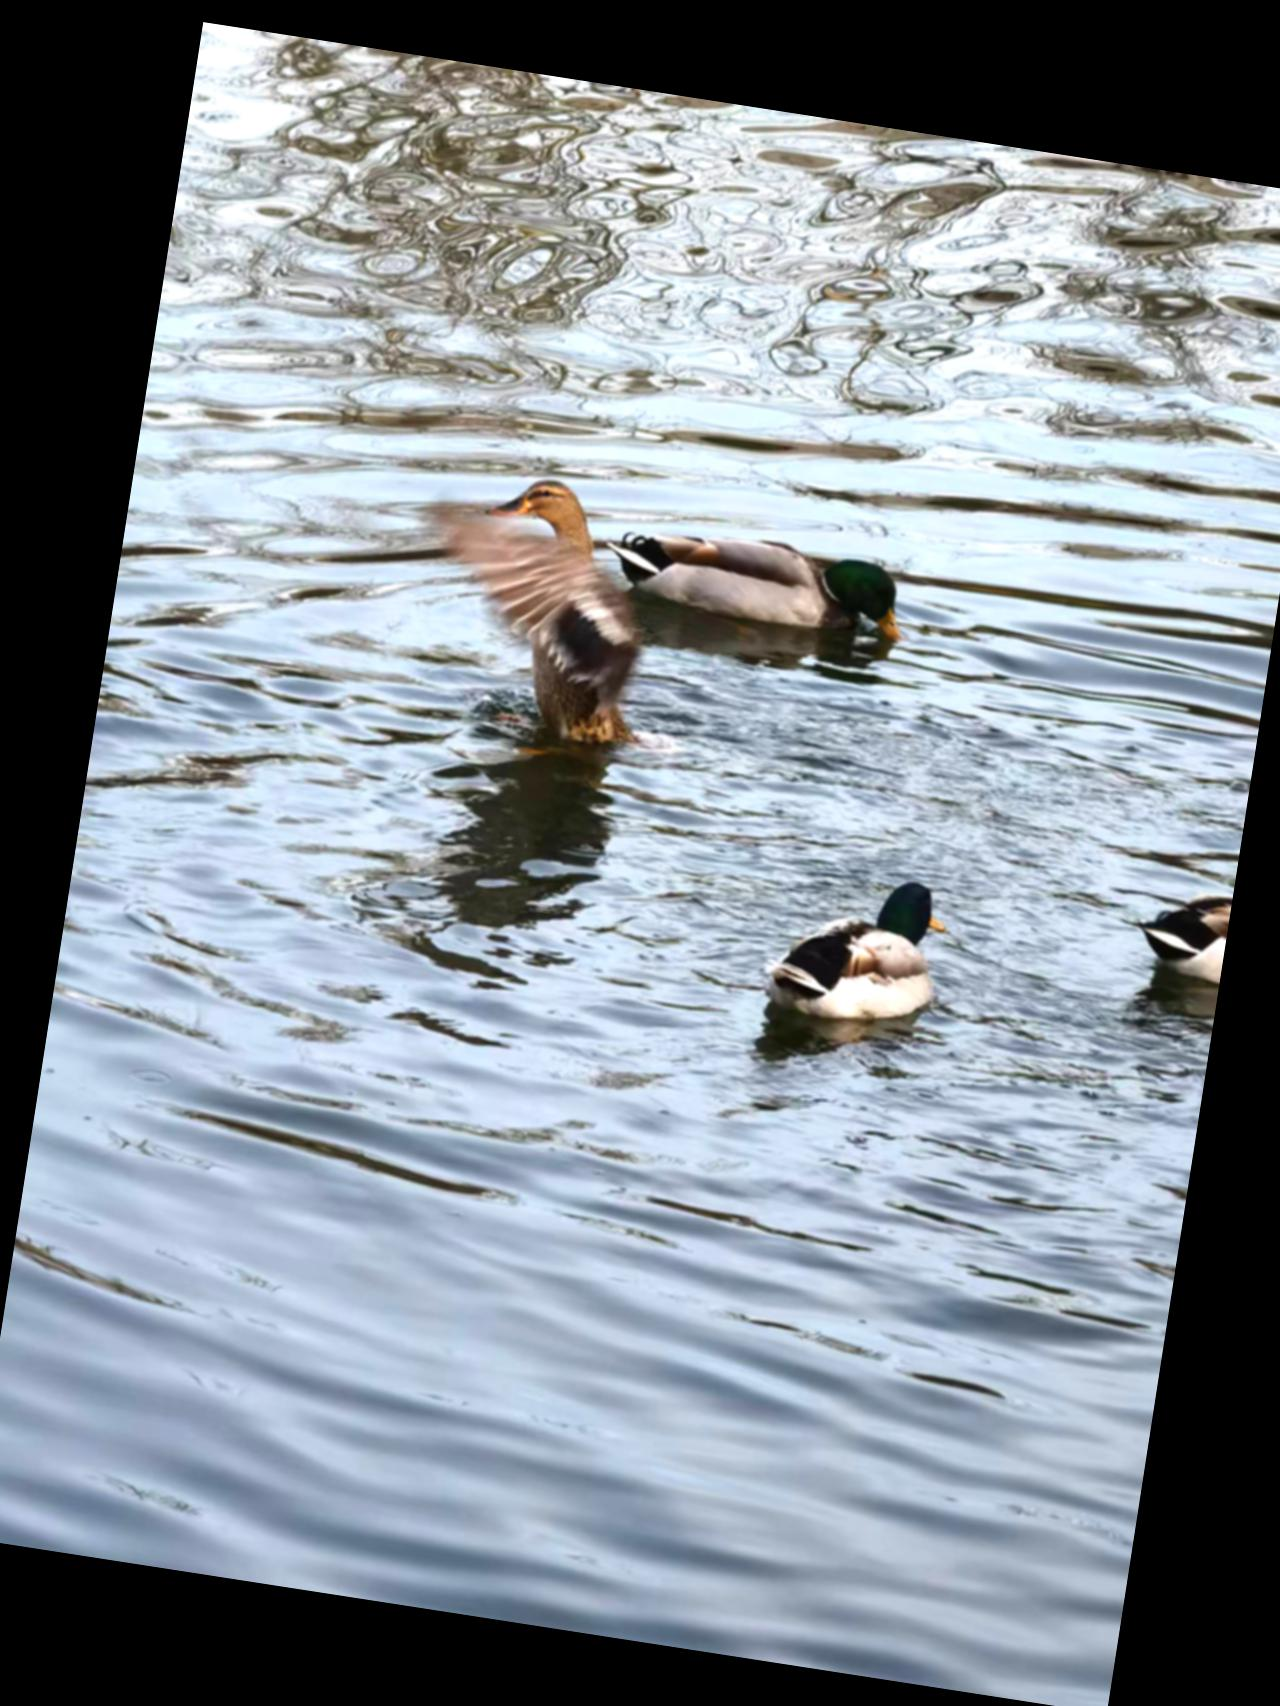duck: (383, 452, 680, 799), (596, 487, 947, 653), (744, 852, 969, 1053), (1108, 881, 1230, 971)
